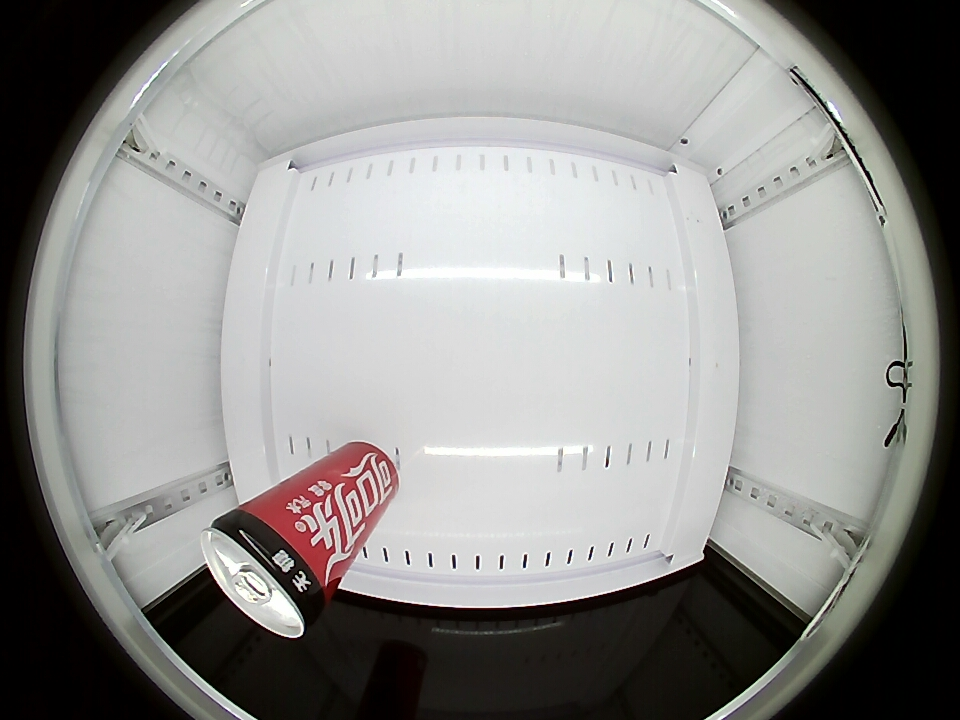lingdukele: (200, 504, 332, 639)
